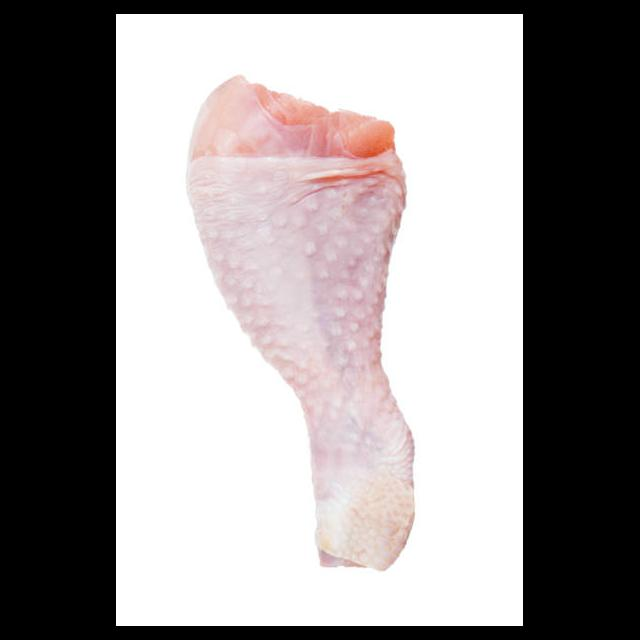chicken: (188, 72, 418, 572)
